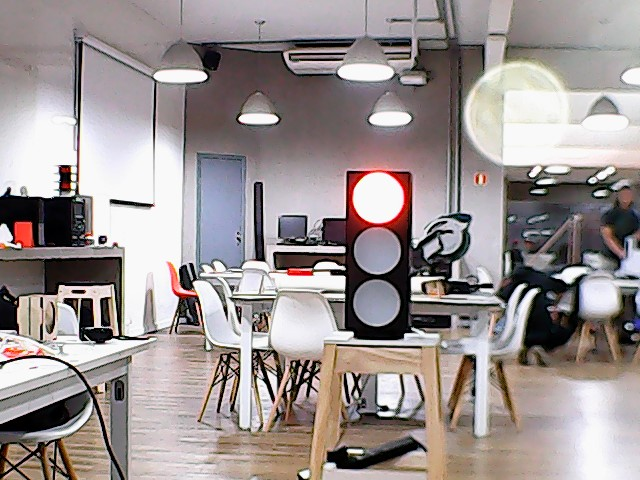vermelho: (341, 164, 414, 342)
